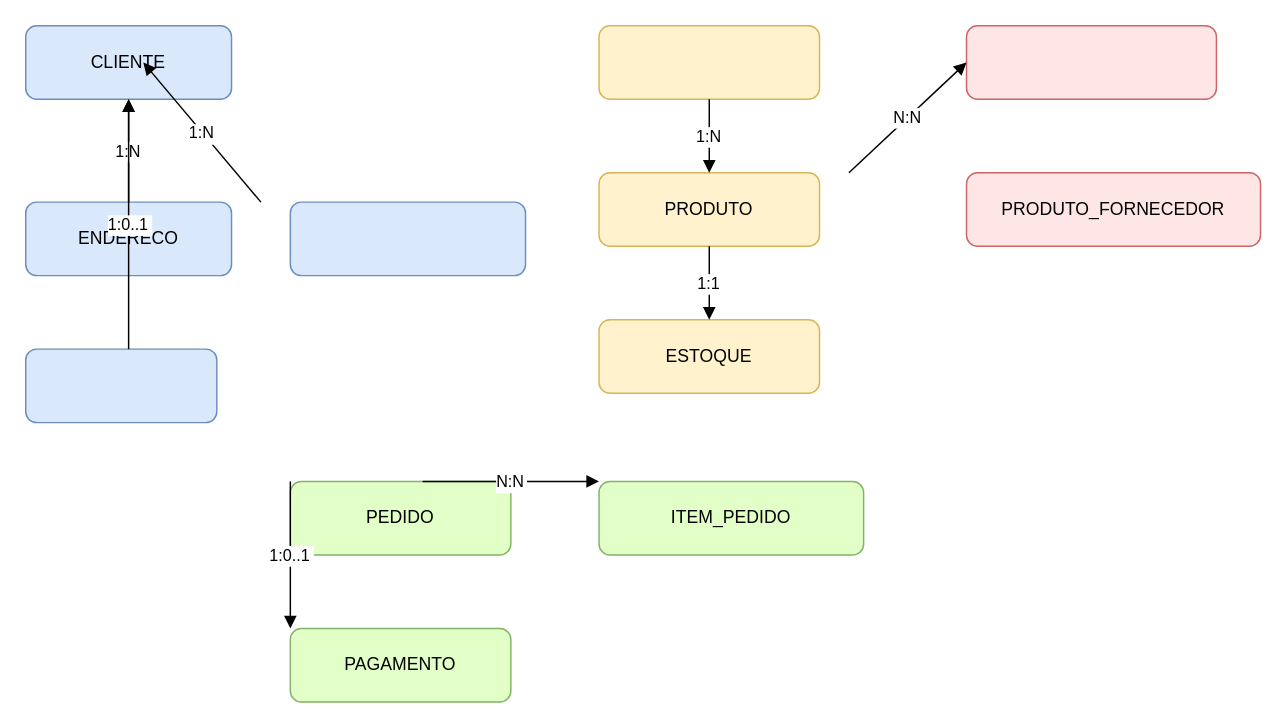
This 1286x728 diagram has some shape labels left out. The centre of each missing label's shape, as x and y in pixels:
CATEGORIA: the point at 709,61
CLIENTE_TELEFONE: the point at 407,238
FORNECEDOR: the point at 1090,61
USUARIO: the point at 120,385
